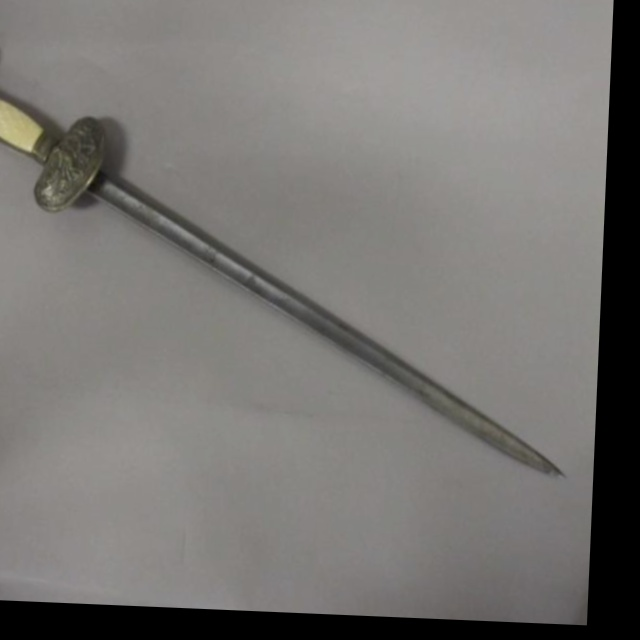Sharp-Object: (0, 43, 589, 539)
